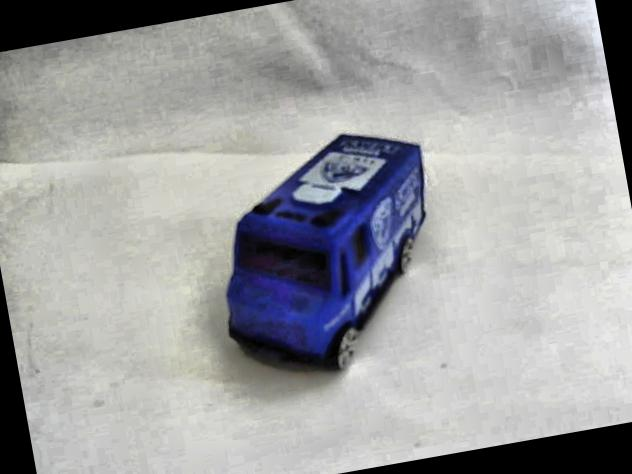police car: (191, 113, 460, 394)
